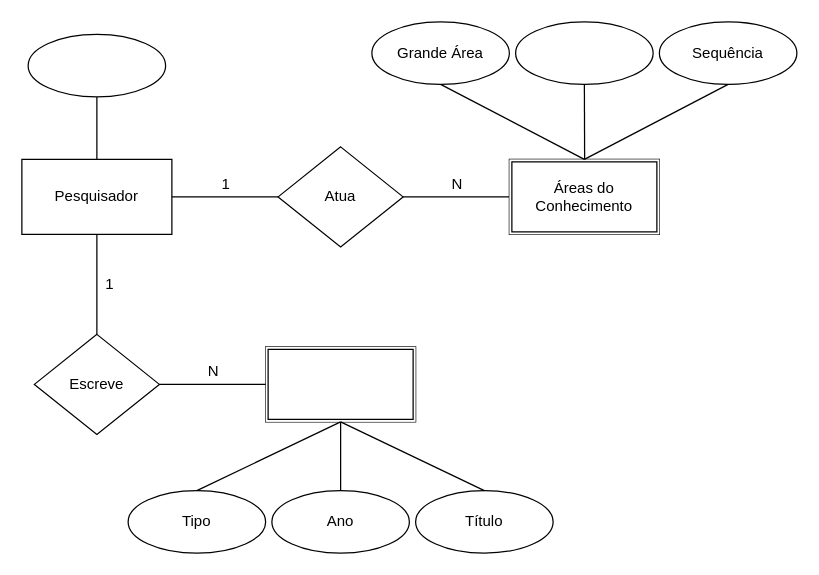
The diagram is 819 pixels wide and 575 high, and some of its shapes have lost their labels. Each missing label, with the centre of its shape:
"ID Lattes" belongs at point 96,65.
"Publicações Científicas" belongs at point 340,383.
"Área" belongs at point 583,52.
